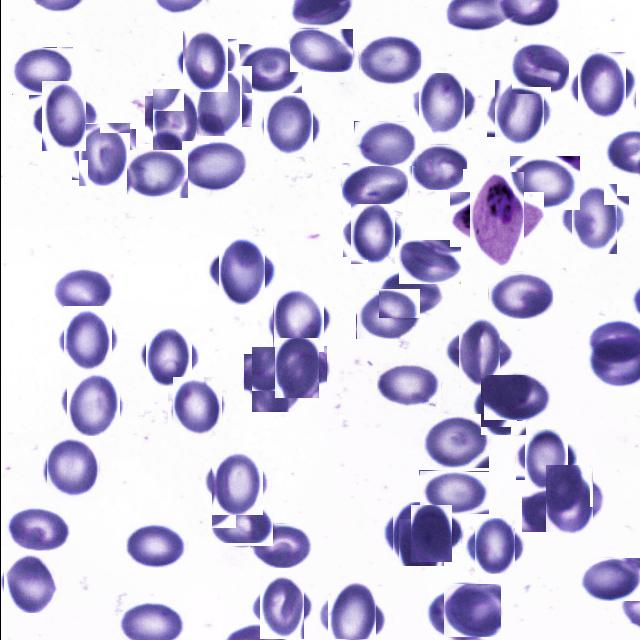difficult: (459, 182, 533, 256)
red blood cell: (509, 156, 579, 210), (63, 374, 123, 434), (2, 552, 61, 612), (424, 414, 489, 468), (42, 439, 101, 498), (540, 470, 598, 530), (268, 292, 326, 350), (208, 454, 266, 512), (74, 125, 132, 183), (388, 505, 446, 563), (564, 190, 622, 248), (34, 87, 92, 145), (212, 242, 270, 300), (320, 585, 381, 640), (58, 311, 116, 368), (248, 351, 306, 408), (573, 56, 630, 114), (341, 163, 407, 212), (181, 141, 247, 190), (358, 34, 420, 86), (355, 289, 419, 339), (489, 84, 546, 140), (190, 76, 247, 132), (148, 92, 204, 148), (260, 98, 316, 154), (442, 583, 500, 637), (487, 271, 552, 319), (238, 44, 301, 93), (451, 325, 506, 381), (418, 470, 488, 514), (49, 266, 113, 314), (376, 361, 440, 409), (511, 44, 572, 94), (254, 578, 308, 634), (11, 46, 72, 95), (378, 270, 440, 318), (169, 380, 224, 434), (126, 150, 187, 198), (483, 375, 548, 420), (3, 509, 71, 552), (414, 76, 468, 130), (248, 523, 312, 568), (178, 35, 232, 88), (124, 522, 186, 568), (353, 121, 415, 166), (346, 208, 398, 261), (398, 240, 460, 284), (289, 29, 352, 72), (143, 331, 195, 383), (520, 432, 572, 484), (270, 342, 322, 394), (520, 488, 581, 532), (578, 558, 640, 601), (210, 504, 272, 546), (478, 380, 528, 432), (410, 144, 466, 190), (406, 509, 456, 558), (469, 522, 518, 570)
